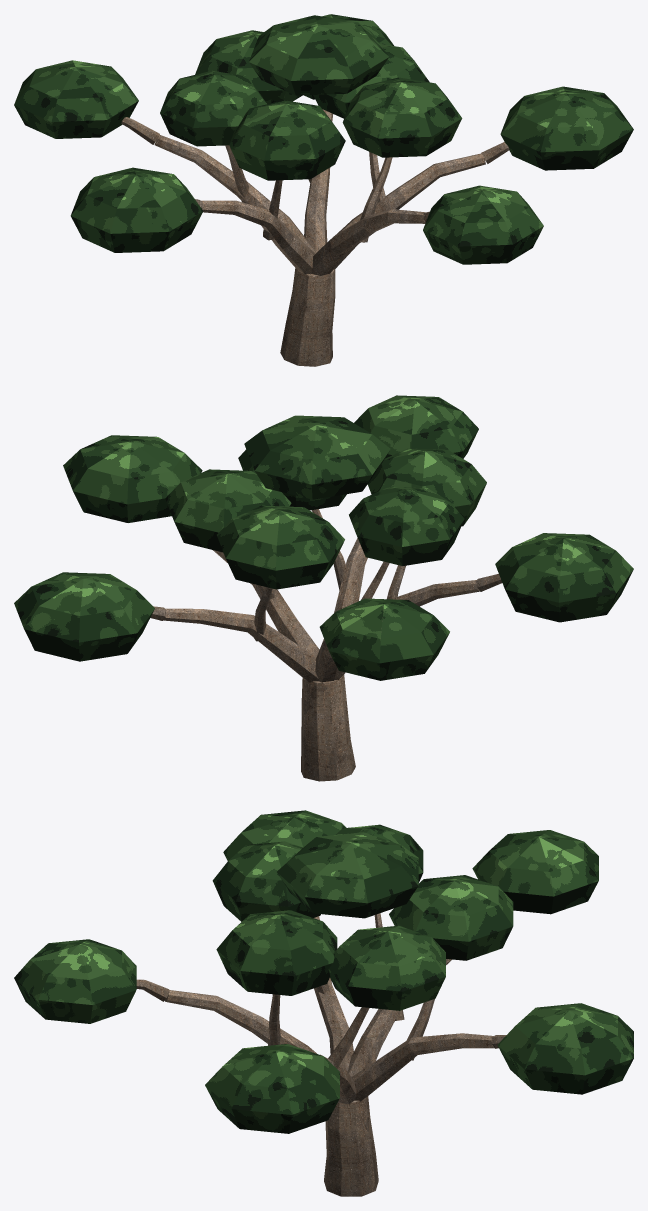
The model's file is tree_sakura.glb.
3 views of the same model, one above another, from view 1: azimuth 30°, elevation 25°; view 2: azimuth 150°, elevation 25°; view 3: azimuth 270°, elevation 25° (orthographic). The views are drawn at different scales.
Parts seen in each view (by area): view 1: tree_sakura; view 2: tree_sakura; view 3: tree_sakura.
Part boxes in pixels (box(x1,y1,x2,y2)): tree_sakura: box(14, 14, 633, 366); tree_sakura: box(14, 395, 633, 781); tree_sakura: box(14, 810, 633, 1196).
Bounding box in the file's own units: 9.54 × 5.6 × 9.03.
1 material, 1 textured.
